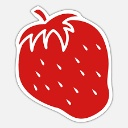strawberry: (14, 5, 112, 119)
